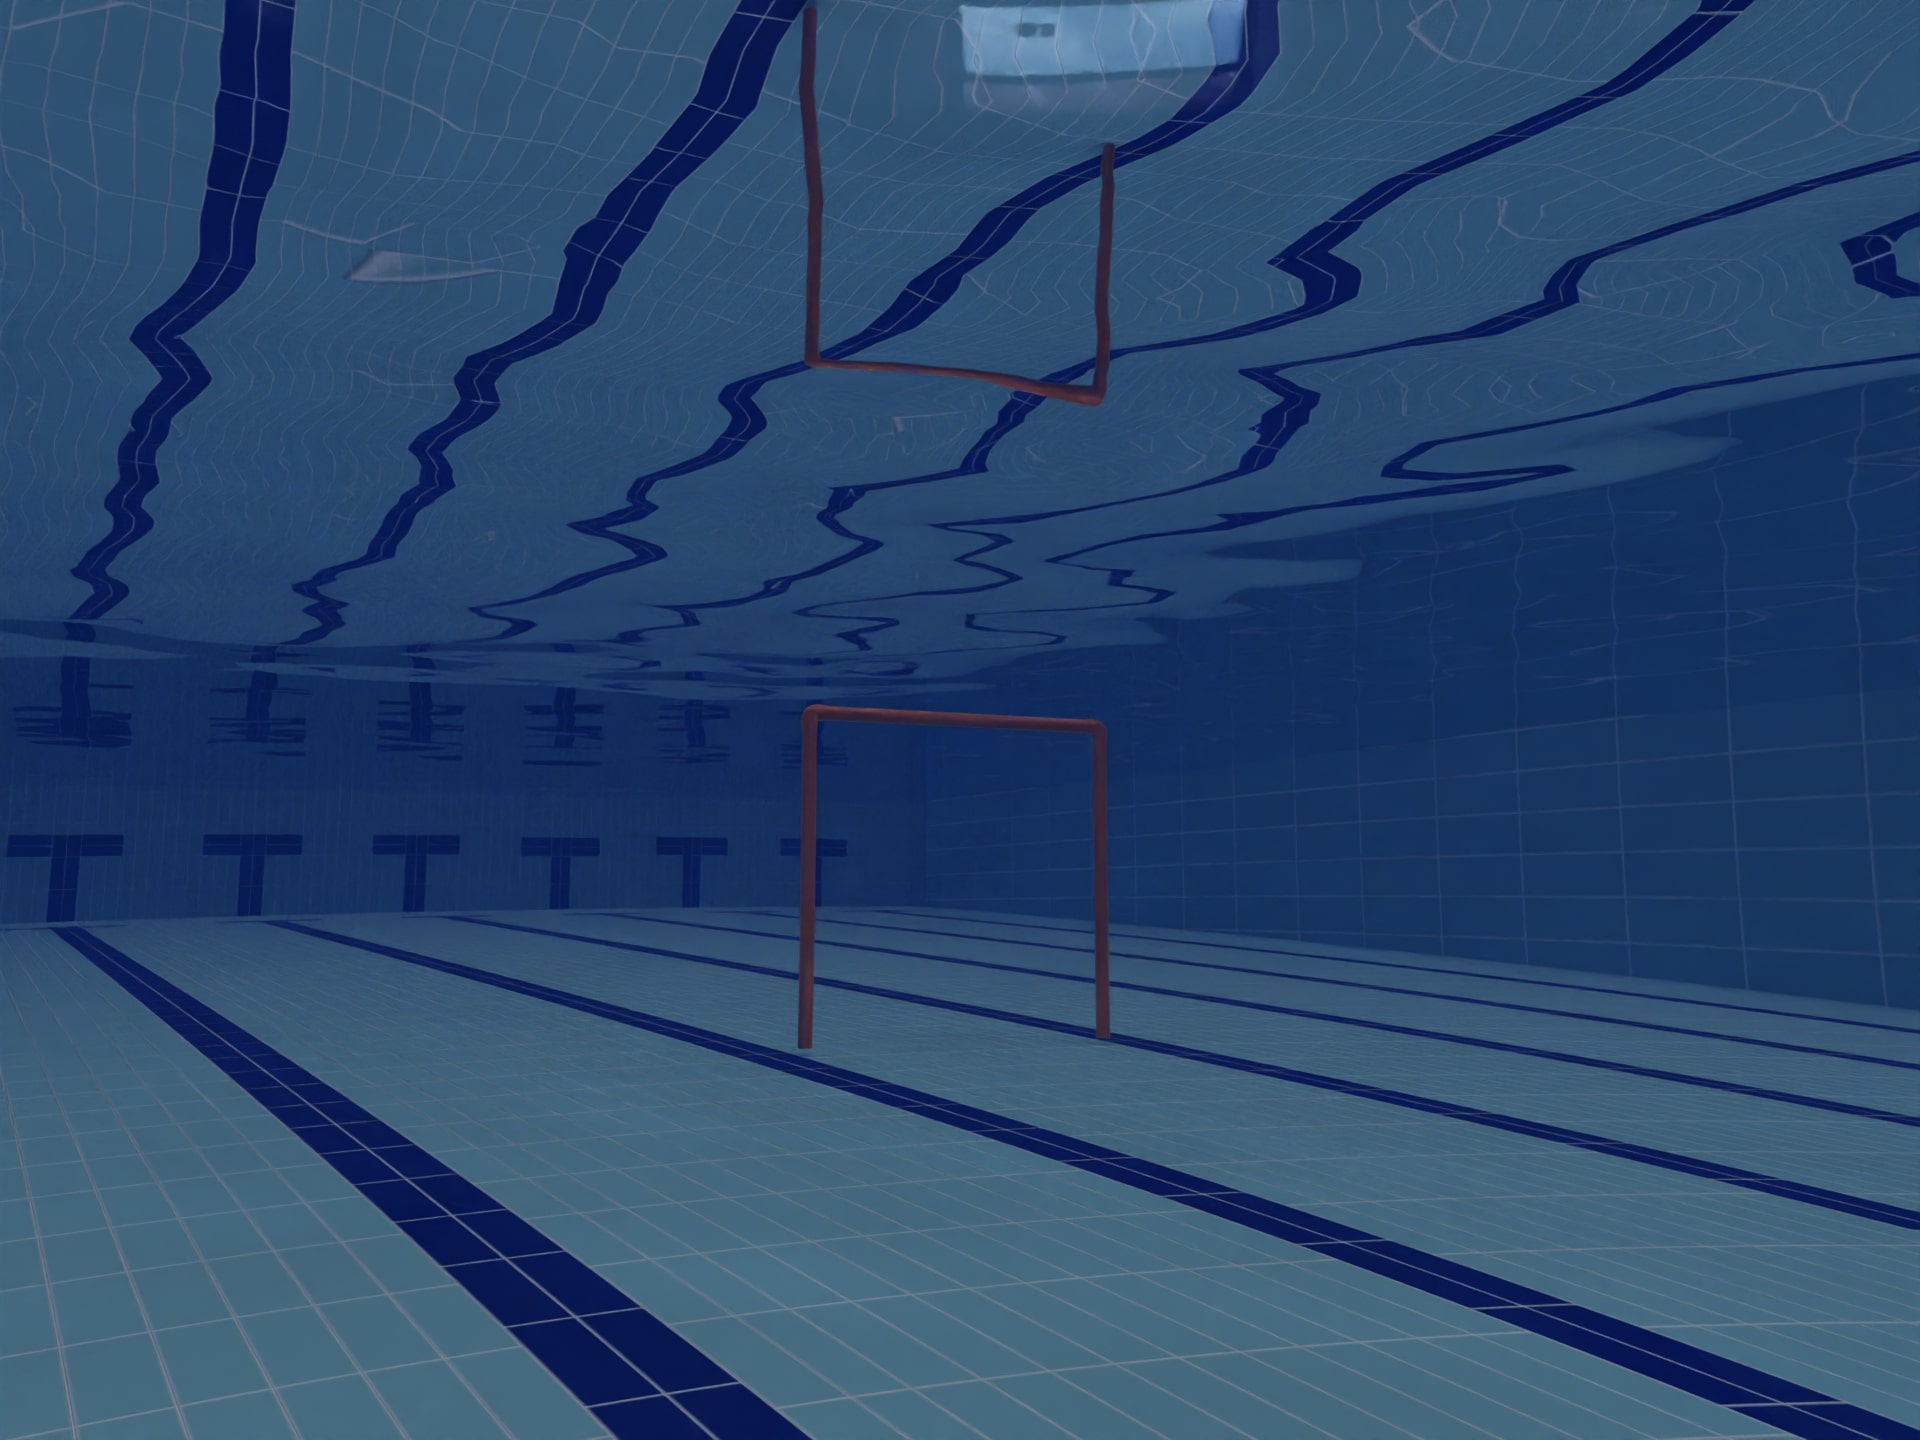gate: (783, 667, 1175, 1059)
